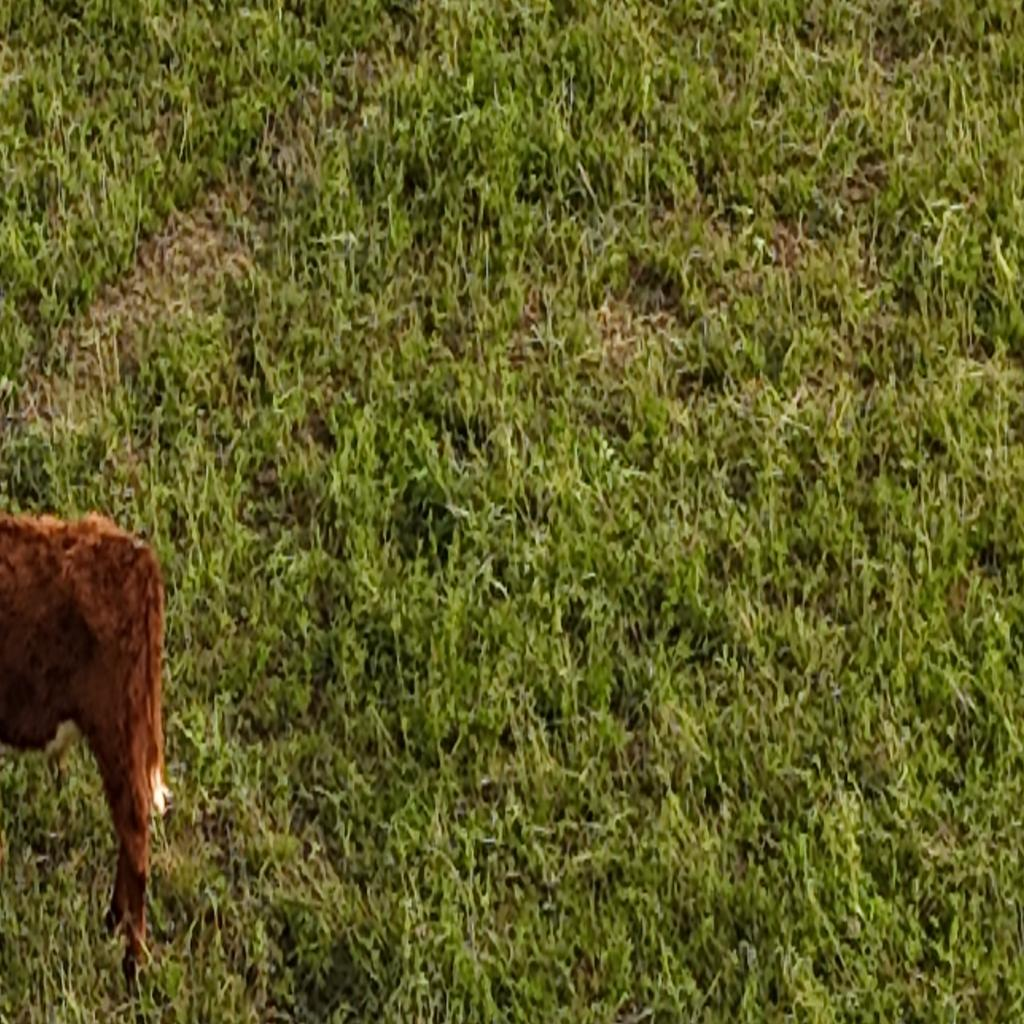cow: (0, 501, 175, 991)
